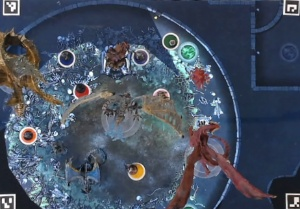blue: (55, 49, 78, 69)
green: (160, 30, 179, 51)
orange: (16, 125, 40, 147)
pink: (150, 86, 172, 106)
red: (69, 80, 91, 102)
violet: (129, 43, 150, 67)
yellow: (124, 158, 147, 181)
